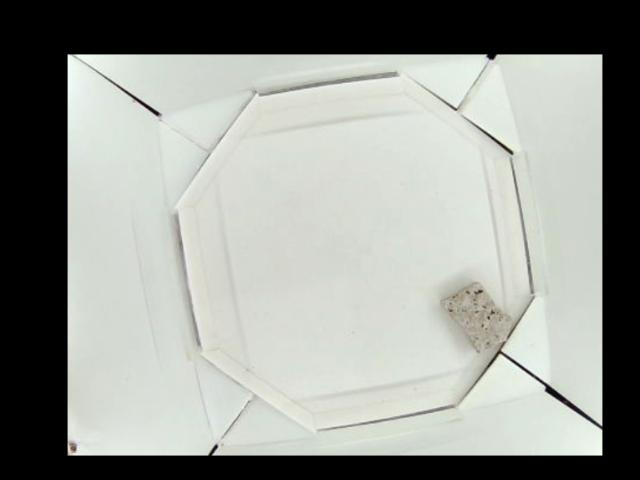China: (442, 281, 513, 351)
